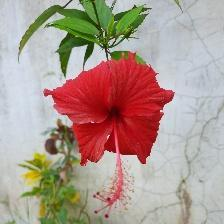hibiscus: (44, 58, 175, 217)
